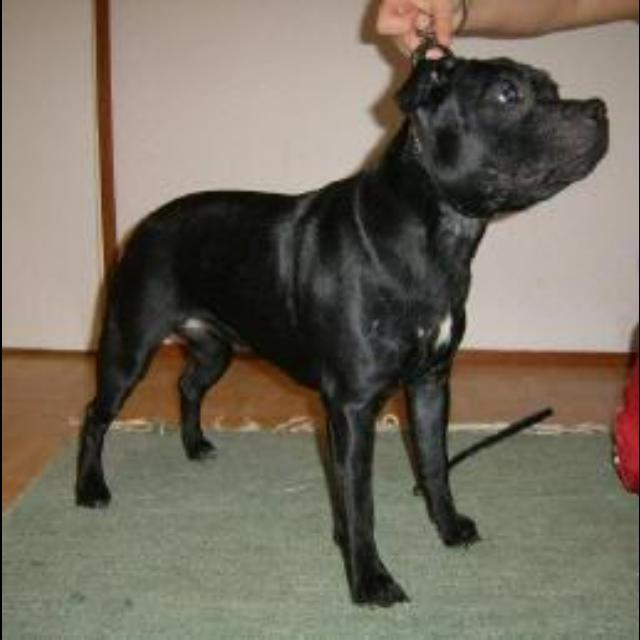staffford: (72, 32, 610, 609)
